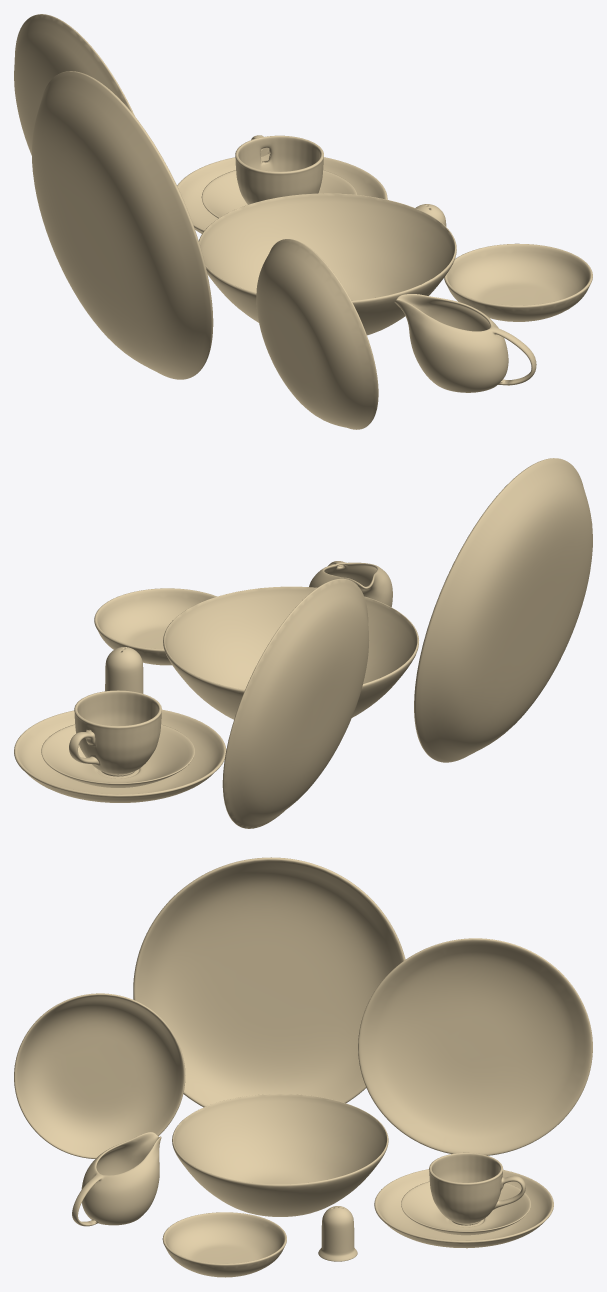
The model's file is 30pcs.glb.
3 renders of one model, top to bottom at view 1: azimuth 30°, elevation 25°; view 2: azimuth 150°, elevation 25°; view 3: azimuth 270°, elevation 25°, orthographic. The views are drawn at different scales.
Visible parts, largest first — view 1: Circle.006, Circle, Circle.003, Circle.002, Cylinder.007, Circle.005, CUP, Circle.004, NAALBAKI; view 2: Circle.006, Circle.005, Circle, Circle.004, CUP, Circle.002, NAALBAKI, Cylinder.007, Salt Shaker 0; view 3: Circle.006, Circle.005, Circle.003, Circle, Circle.002, Cylinder.007, Circle.004, CUP, NAALBAKI, Salt Shaker 0.
Boxes of the visible parts, x1,y1,x2,y2 form: Circle.006: (32, 71, 213, 379); Circle: (199, 193, 456, 335); Circle.003: (256, 239, 378, 429); Circle.002: (444, 243, 592, 321); Cylinder.007: (394, 294, 536, 392); Circle.005: (14, 14, 134, 155); CUP: (235, 135, 323, 204); Circle.004: (177, 157, 387, 233); NAALBAKI: (201, 170, 357, 218); Circle.006: (414, 458, 592, 762); Circle.005: (222, 578, 369, 828); Circle: (163, 586, 418, 719); Circle.004: (14, 709, 226, 802); CUP: (69, 690, 161, 776); Circle.002: (94, 588, 216, 665); NAALBAKI: (41, 724, 194, 787); Cylinder.007: (309, 561, 392, 607); Salt Shaker 0: (105, 647, 143, 693); Circle.006: (133, 857, 405, 1107); Circle.005: (358, 938, 592, 1155); Circle.003: (14, 993, 185, 1158); Circle: (172, 1094, 388, 1216); Circle.002: (162, 1212, 286, 1277); Cylinder.007: (72, 1132, 161, 1226); Circle.004: (374, 1169, 553, 1248); CUP: (429, 1152, 525, 1225); NAALBAKI: (401, 1181, 530, 1235); Salt Shaker 0: (318, 1206, 357, 1261).
Size of the model in its own units: 0.4984 by 0.2959 by 0.6283.
